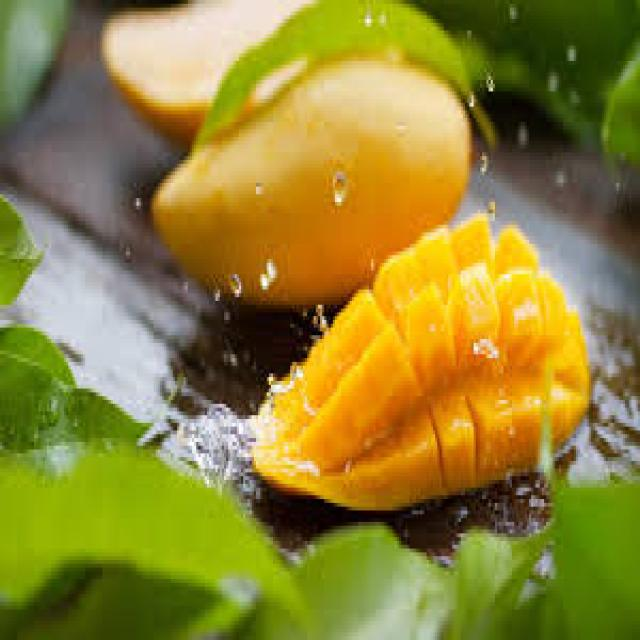mango: (250, 213, 591, 518), (149, 36, 474, 301)
